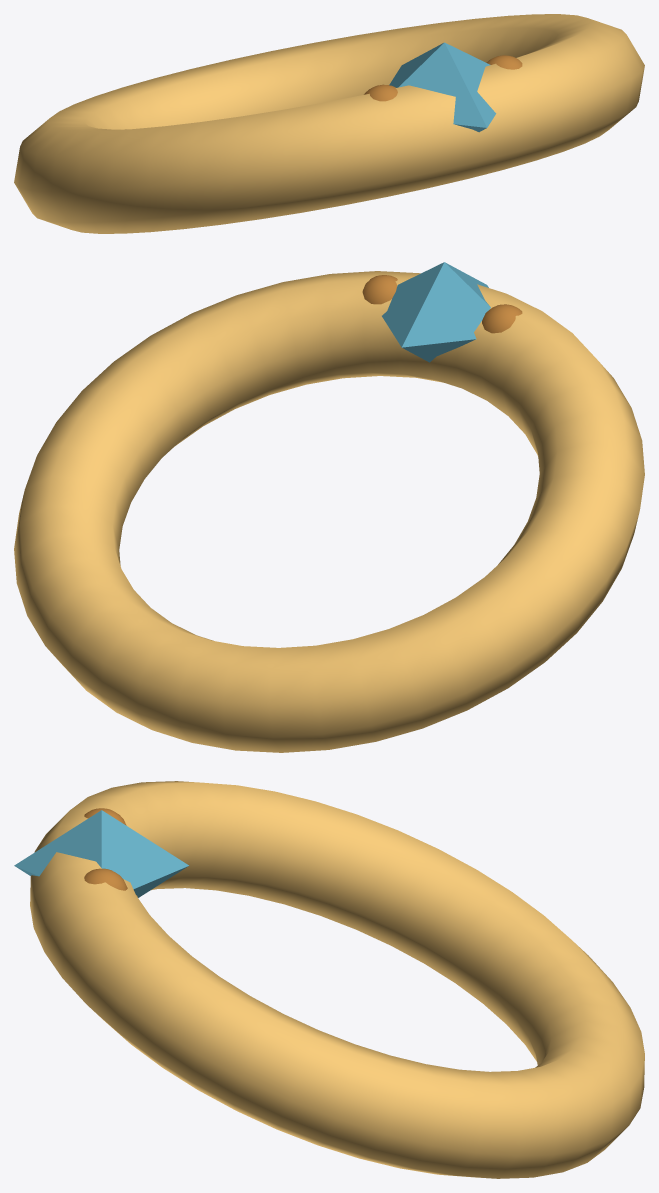
Rendered from mia-ring.glb.
The picture shows the model from 3 angles, top to bottom: view 1: azimuth 30°, elevation 25°; view 2: azimuth 150°, elevation 25°; view 3: azimuth 270°, elevation 25°; orthographic projection. The views are drawn at different scales.
Visible parts, largest first — view 1: Body_trim, Body_glass, Body_brass; view 2: Body_trim, Body_glass, Body_brass; view 3: Body_trim, Body_glass, Body_brass.
Part boxes in pixels (x1,y1,x2,y2): Body_trim: [14, 14, 644, 233]; Body_glass: [389, 42, 496, 132]; Body_brass: [364, 55, 522, 101]; Body_trim: [14, 271, 644, 752]; Body_glass: [382, 262, 490, 362]; Body_brass: [362, 275, 522, 333]; Body_trim: [30, 781, 644, 1178]; Body_glass: [14, 810, 189, 897]; Body_brass: [84, 808, 127, 890].
Bounding box in the file's own units: 0.12 × 0.0621 × 0.1151.
